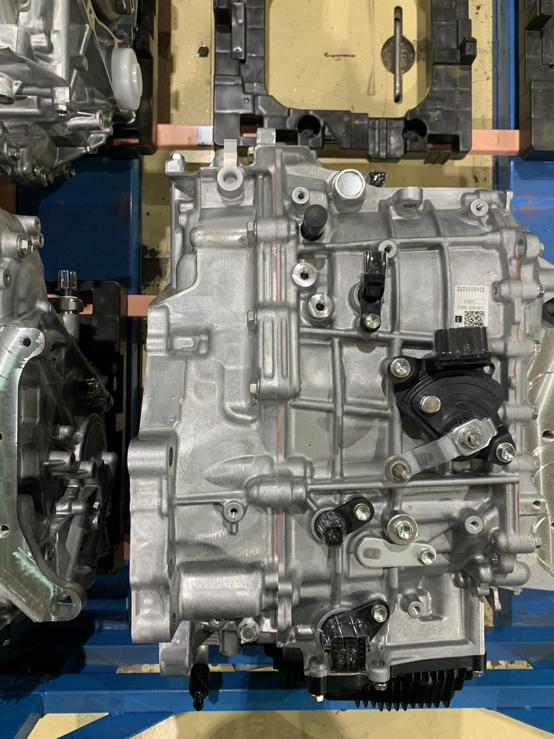gearbox_type2: (124, 153, 552, 703)
gearbox_type2_FP1: (383, 346, 517, 479)
gearbox_type2_FP2: (241, 216, 303, 398)
gearbox_type2_FP3: (244, 472, 308, 507)
